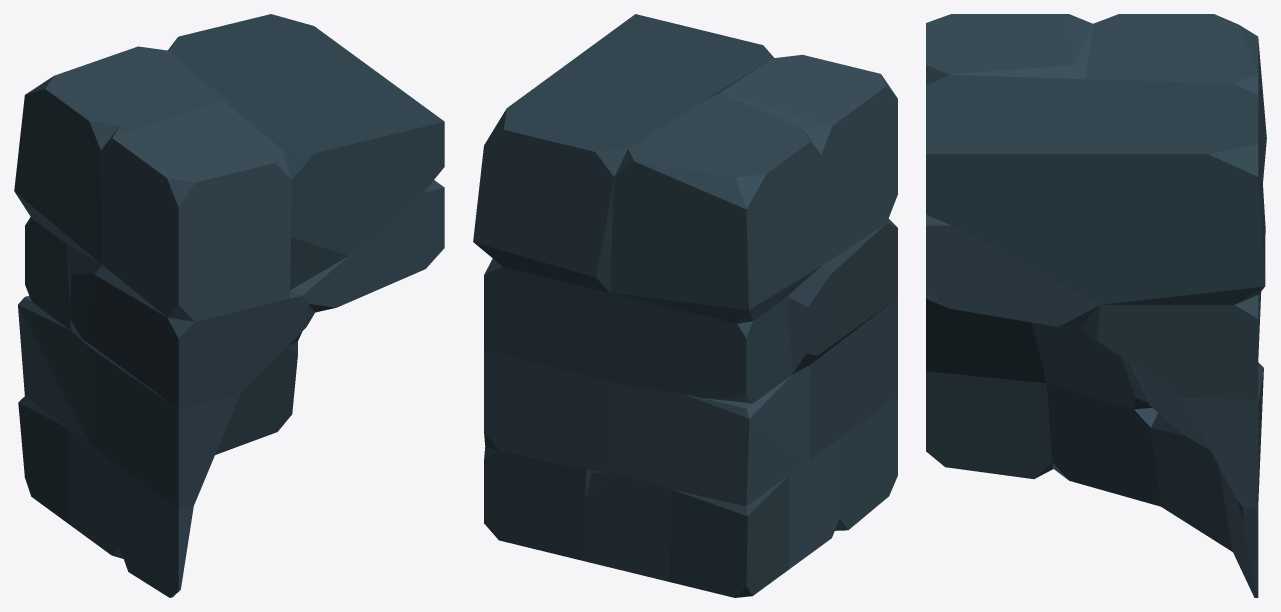
The model's file is ceiling_element_2x2_corner_round_conc.fbx.
The picture shows the model from 3 angles, left to right: view 1: azimuth 30°, elevation 25°; view 2: azimuth 150°, elevation 25°; view 3: azimuth 270°, elevation 25°; orthographic projection. The views are drawn at different scales.
Parts seen in each view (by area): view 1: ceiling_element_2x2_corner_round_conc; view 2: ceiling_element_2x2_corner_round_conc; view 3: ceiling_element_2x2_corner_round_conc.
Boxes of the visible parts, bbox=[...] form: ceiling_element_2x2_corner_round_conc: bbox=[14, 14, 444, 597]; ceiling_element_2x2_corner_round_conc: bbox=[473, 14, 897, 597]; ceiling_element_2x2_corner_round_conc: bbox=[926, 14, 1266, 597].
Bounding box in the file's own units: 212 × 309 × 205.
